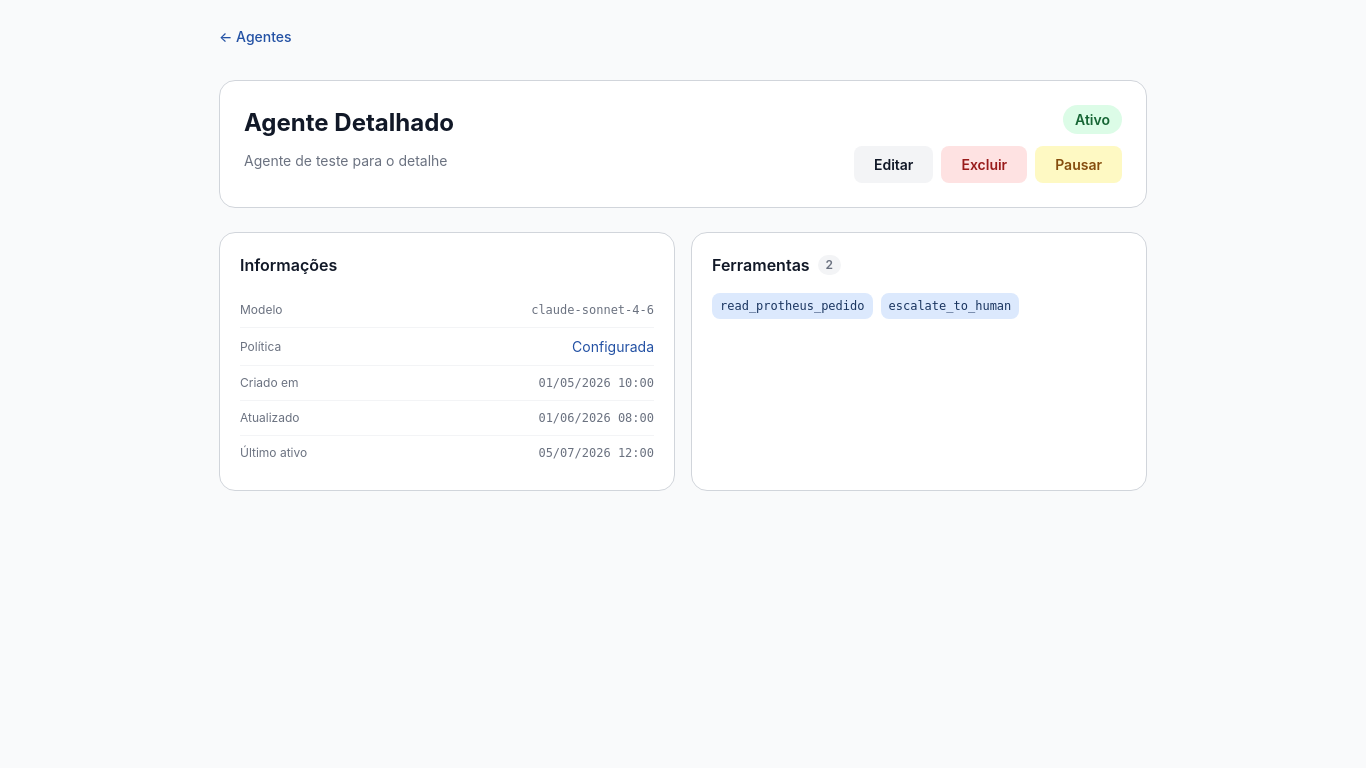
AgenteDetailComponent — modal de exclusão › fecha modal ao clicar em Cancelar
The width and height of the screenshot is (1366, 768).
Click the button with class "agente-detail__btn--excluir" at [984, 164], box [941, 146, 1027, 183]
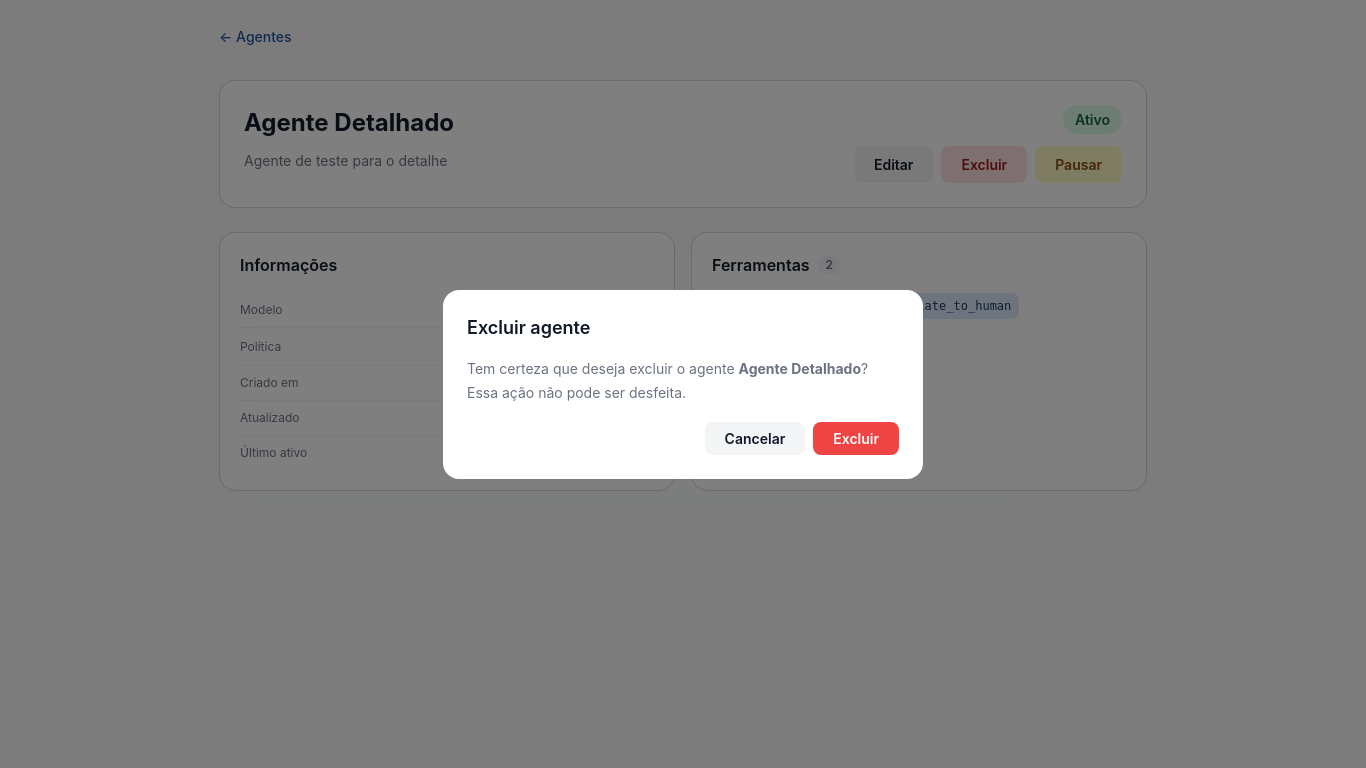
Click the button with class "agente-detail__btn--cancelar" at [755, 438], box [705, 422, 805, 454]
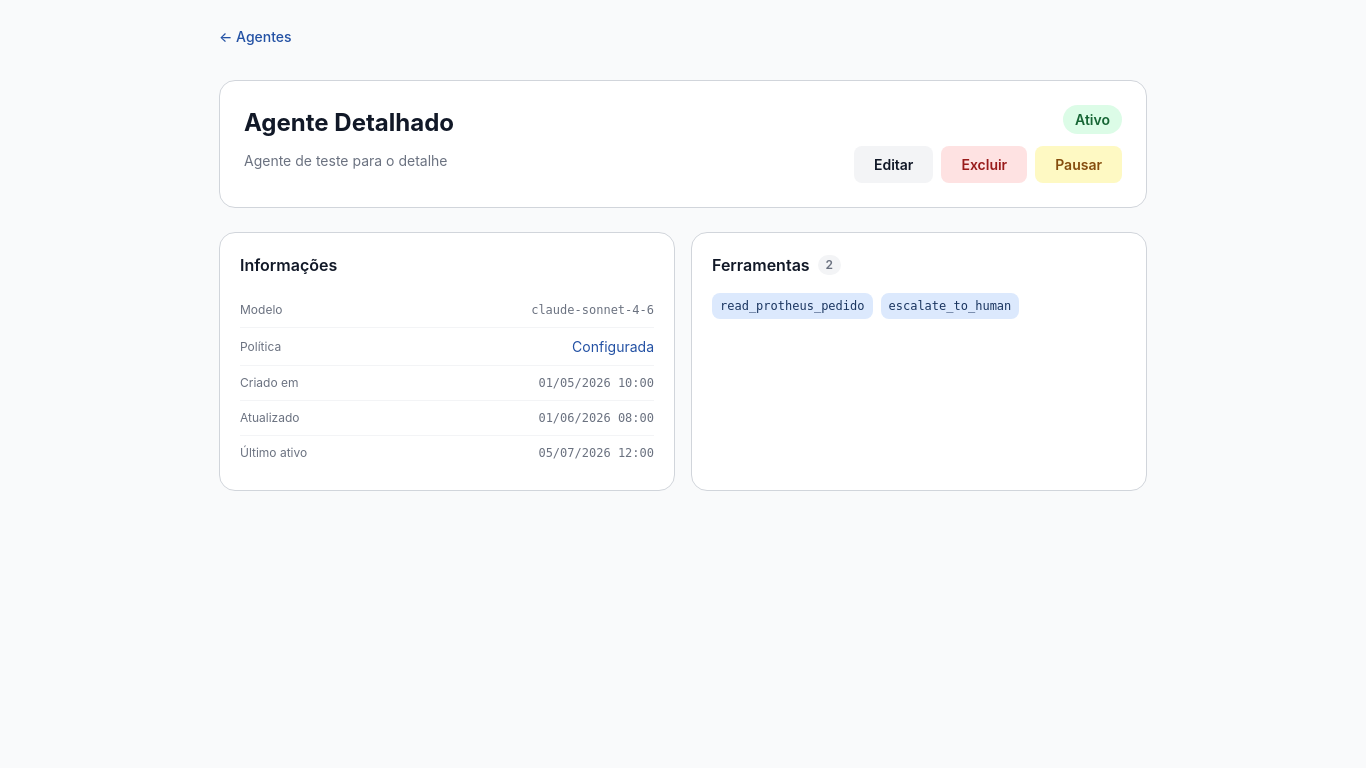
Expected: the dialog with class "agente-detail__modal-overlay" is gone
